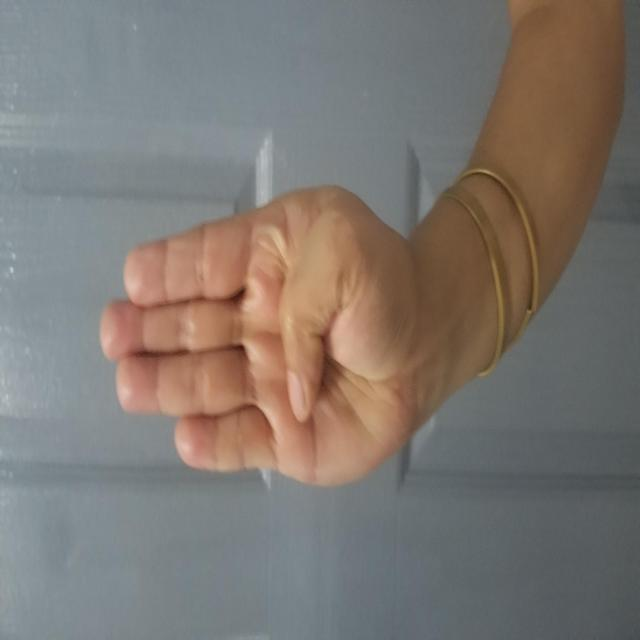B: (153, 98, 460, 416)
